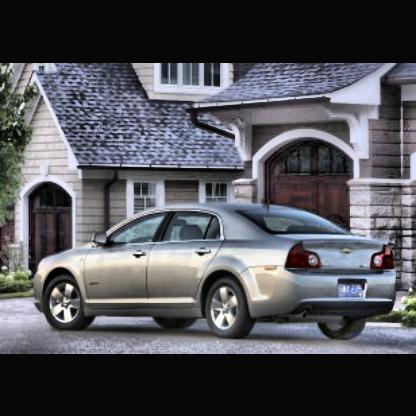Chevrolet Malibu Hybrid Sedan 2010: (31, 202, 403, 345)
